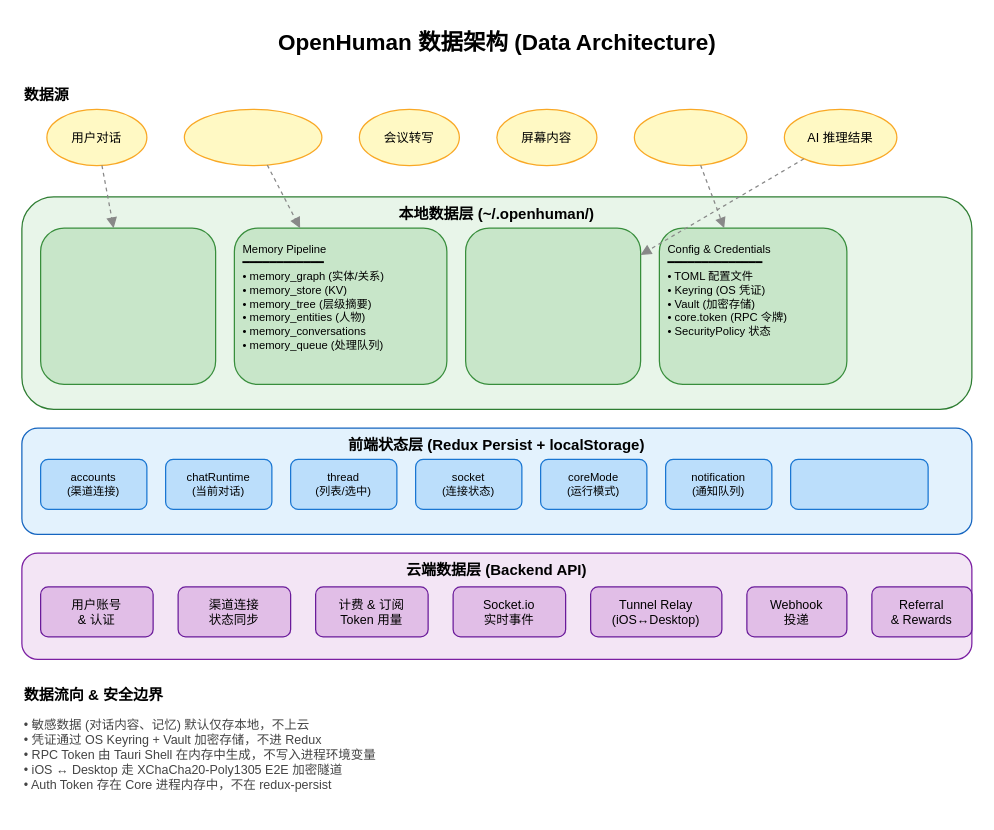
Image size: 994x830. Some labels were removed from this diagram. The centre of each missing label's shape, as x and y in pixels:
"mascot providerSurface" belongs at (858,483).
"Threads Store ━━━━━━━━━━━━ • 对话历史 (messages) • 工具调用记录 • 审批记录 • 文件系统持久化" belongs at (127,305).
"Vector Store ━━━━━━━━━━━━ • Embeddings 索引 • 语义相似度检索 • 上下文窗口增强 • 本地向量计算" belongs at (552,305).
"渠道消息 (WA/TG/Slack...)" belongs at (252,137).
"用户配置 & 偏好" belongs at (690,137).
